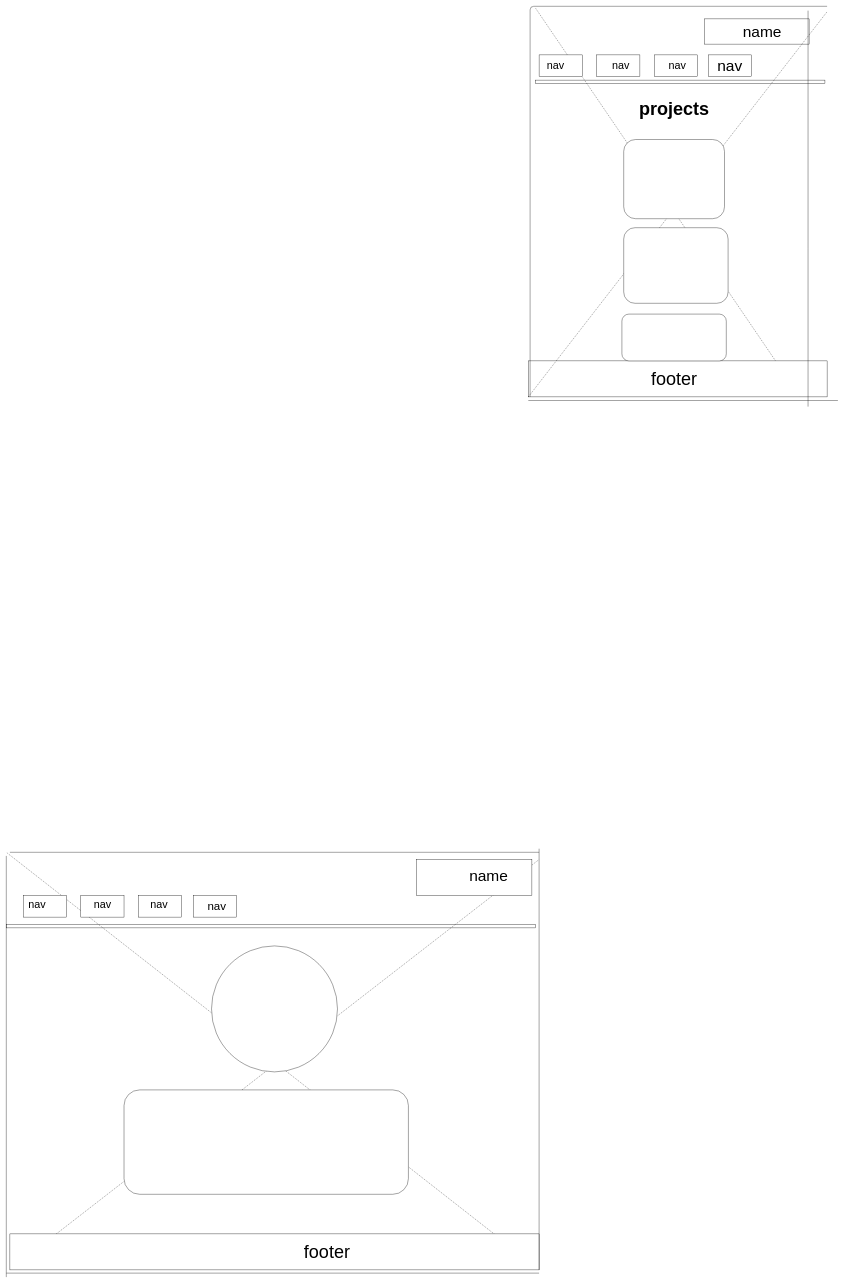
Some shapes in this 845 by 1284 pixel diagram are drawn without their labels. The box of each missing label's shape, as (x1, y1, x2, y2) in pixels:
about: (124, 1090, 408, 1194)
img: (211, 946, 338, 1072)
